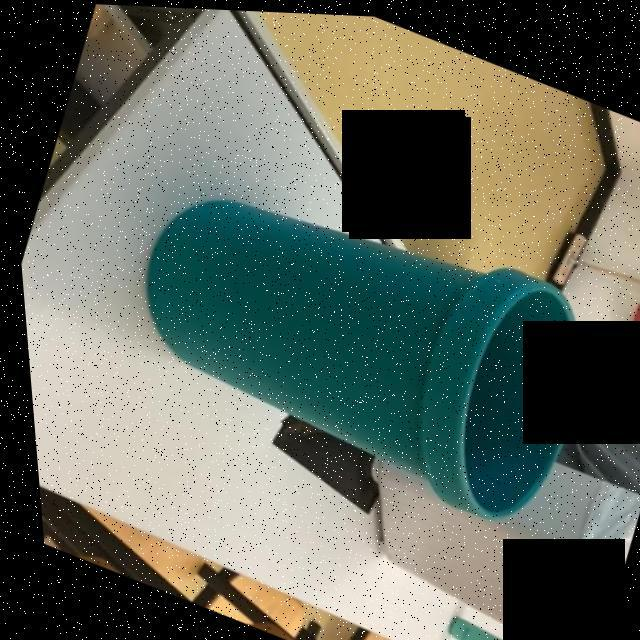bin: (81, 118, 639, 556), (310, 374, 640, 640)
